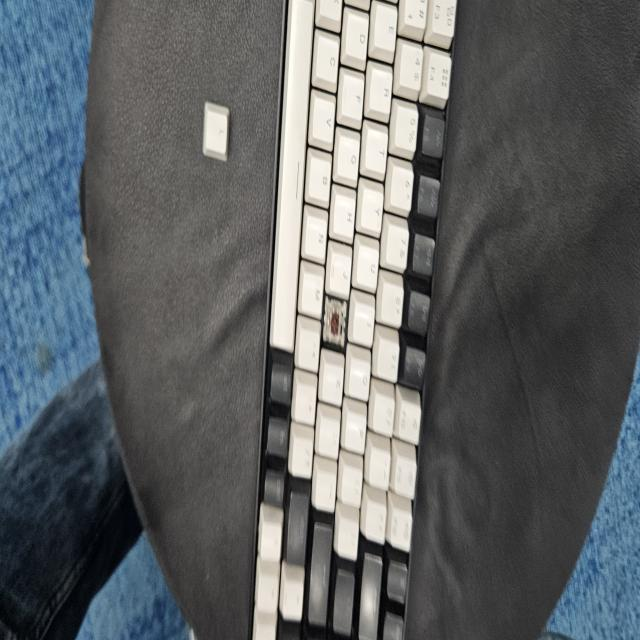C: (325, 301, 346, 355)
